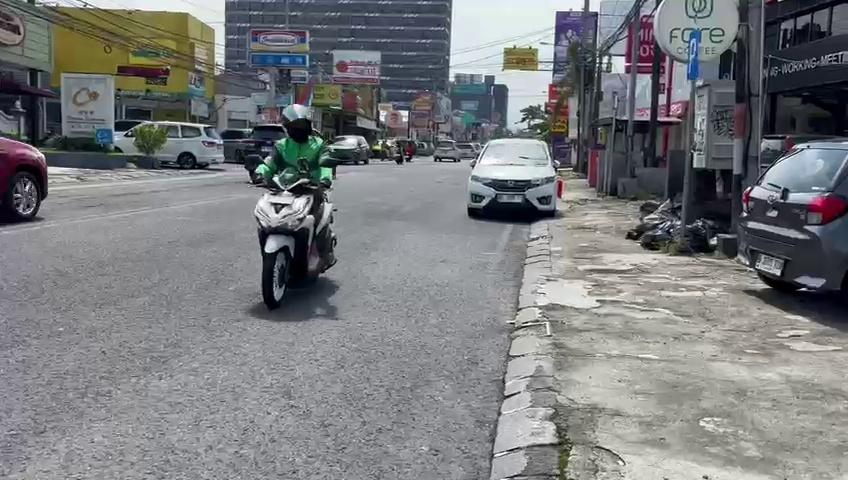helm: (279, 102, 314, 145)
riding: (246, 101, 343, 308)
